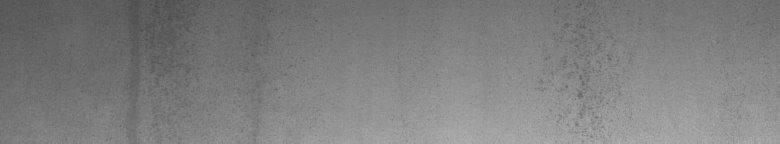ib: (535, 21, 619, 130)
